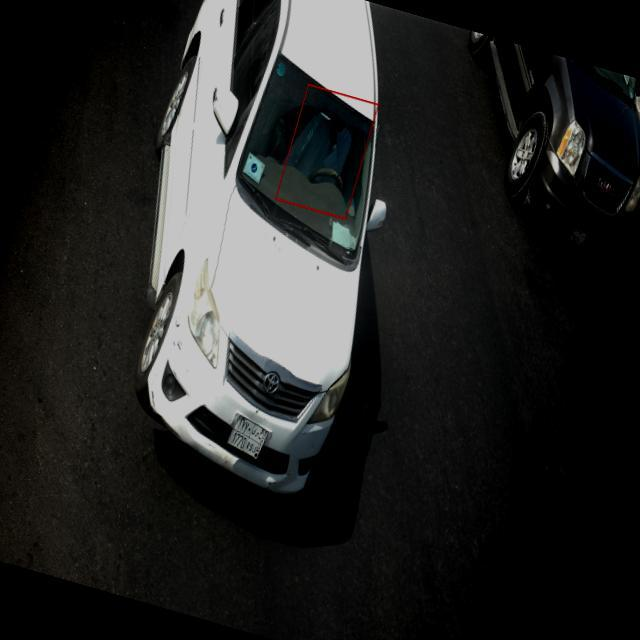windshield: (236, 50, 383, 269)
